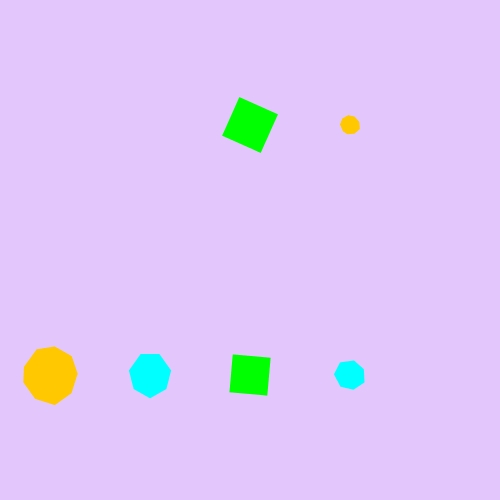heptagon: (125, 351, 176, 400), (331, 357, 370, 394)
nonagon: (18, 345, 82, 406), (336, 111, 365, 139)
quadrilateral: (218, 93, 283, 158), (220, 345, 280, 405)
